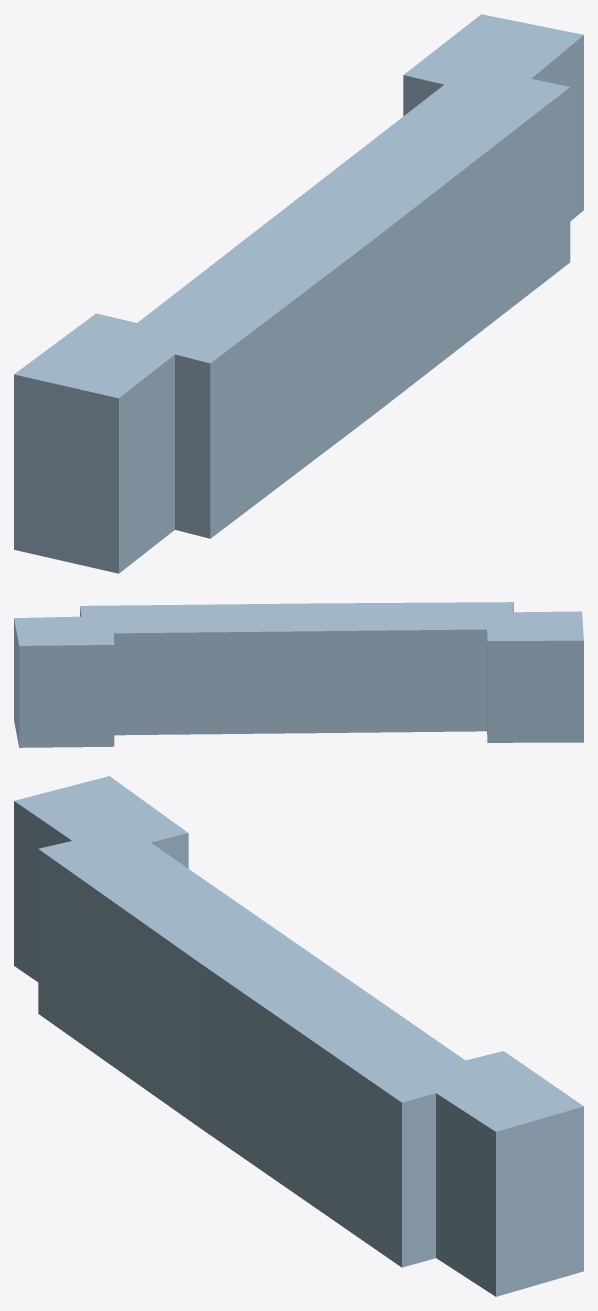
Rendered from osm_way_225250615.glb.
3 renders of one model, top to bottom at view 1: azimuth 30°, elevation 25°; view 2: azimuth 150°, elevation 25°; view 3: azimuth 270°, elevation 25°, orthographic. The views are drawn at different scales.
Visible parts, largest first — view 1: osm_way_225250615; view 2: osm_way_225250615; view 3: osm_way_225250615.
Boxes of the visible parts, x1=… form: osm_way_225250615: x1=14, y1=14, x2=583, y2=573; osm_way_225250615: x1=14, y1=602, x2=583, y2=747; osm_way_225250615: x1=14, y1=776, x2=583, y2=1296.
Size of the model in its own units: 88.84 by 19.2 by 60.13.
